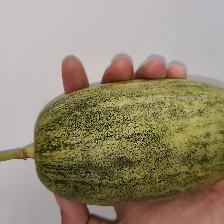gua: (55, 90, 201, 177)
